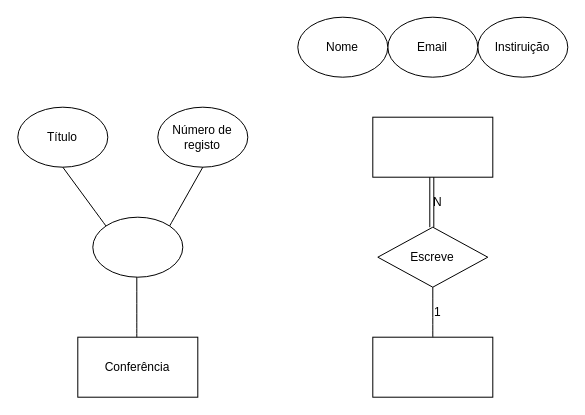
Image size: 585x415. Some labels were removed from this diagram. The box of each missing label's shape, as (x1, y1, x2, y2) in pixels:
Artigo: (372, 336, 493, 397)
Artigos Ciêntificos: (92, 216, 183, 277)
Autores: (372, 116, 493, 177)
